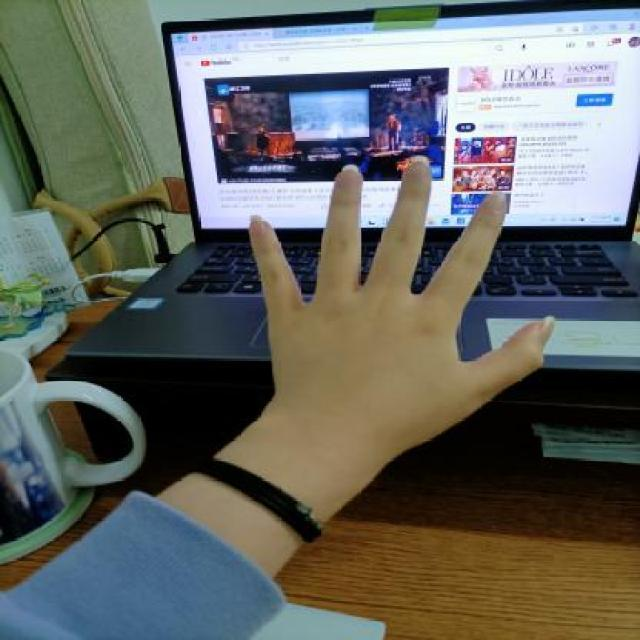bare_hand: (224, 133, 576, 470)
